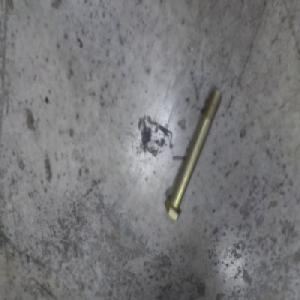Bolt: (163, 86, 219, 219)
